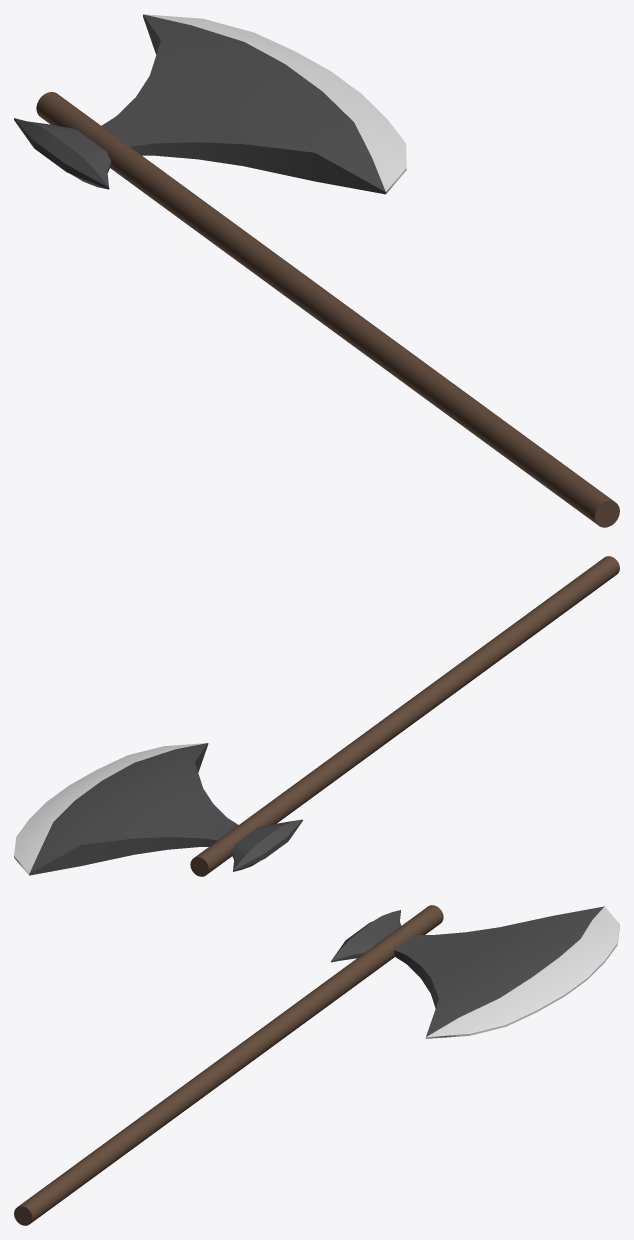
The model's file is axe.fbx.
3 views of the same model, one above another, from view 1: azimuth 30°, elevation 25°; view 2: azimuth 150°, elevation 25°; view 3: azimuth 330°, elevation 25° (orthographic). The views are drawn at different scales.
Visible parts, largest first — view 1: pCube2; view 2: pCube2; view 3: pCube2.
Boxes of the visible parts, left/top/right/bottom form: pCube2: left=14, top=14, right=619, bottom=527; pCube2: left=14, top=556, right=619, bottom=876; pCube2: left=14, top=905, right=619, bottom=1225.
Size of the model in its own units: 4.33 by 0.4634 by 15.86.
